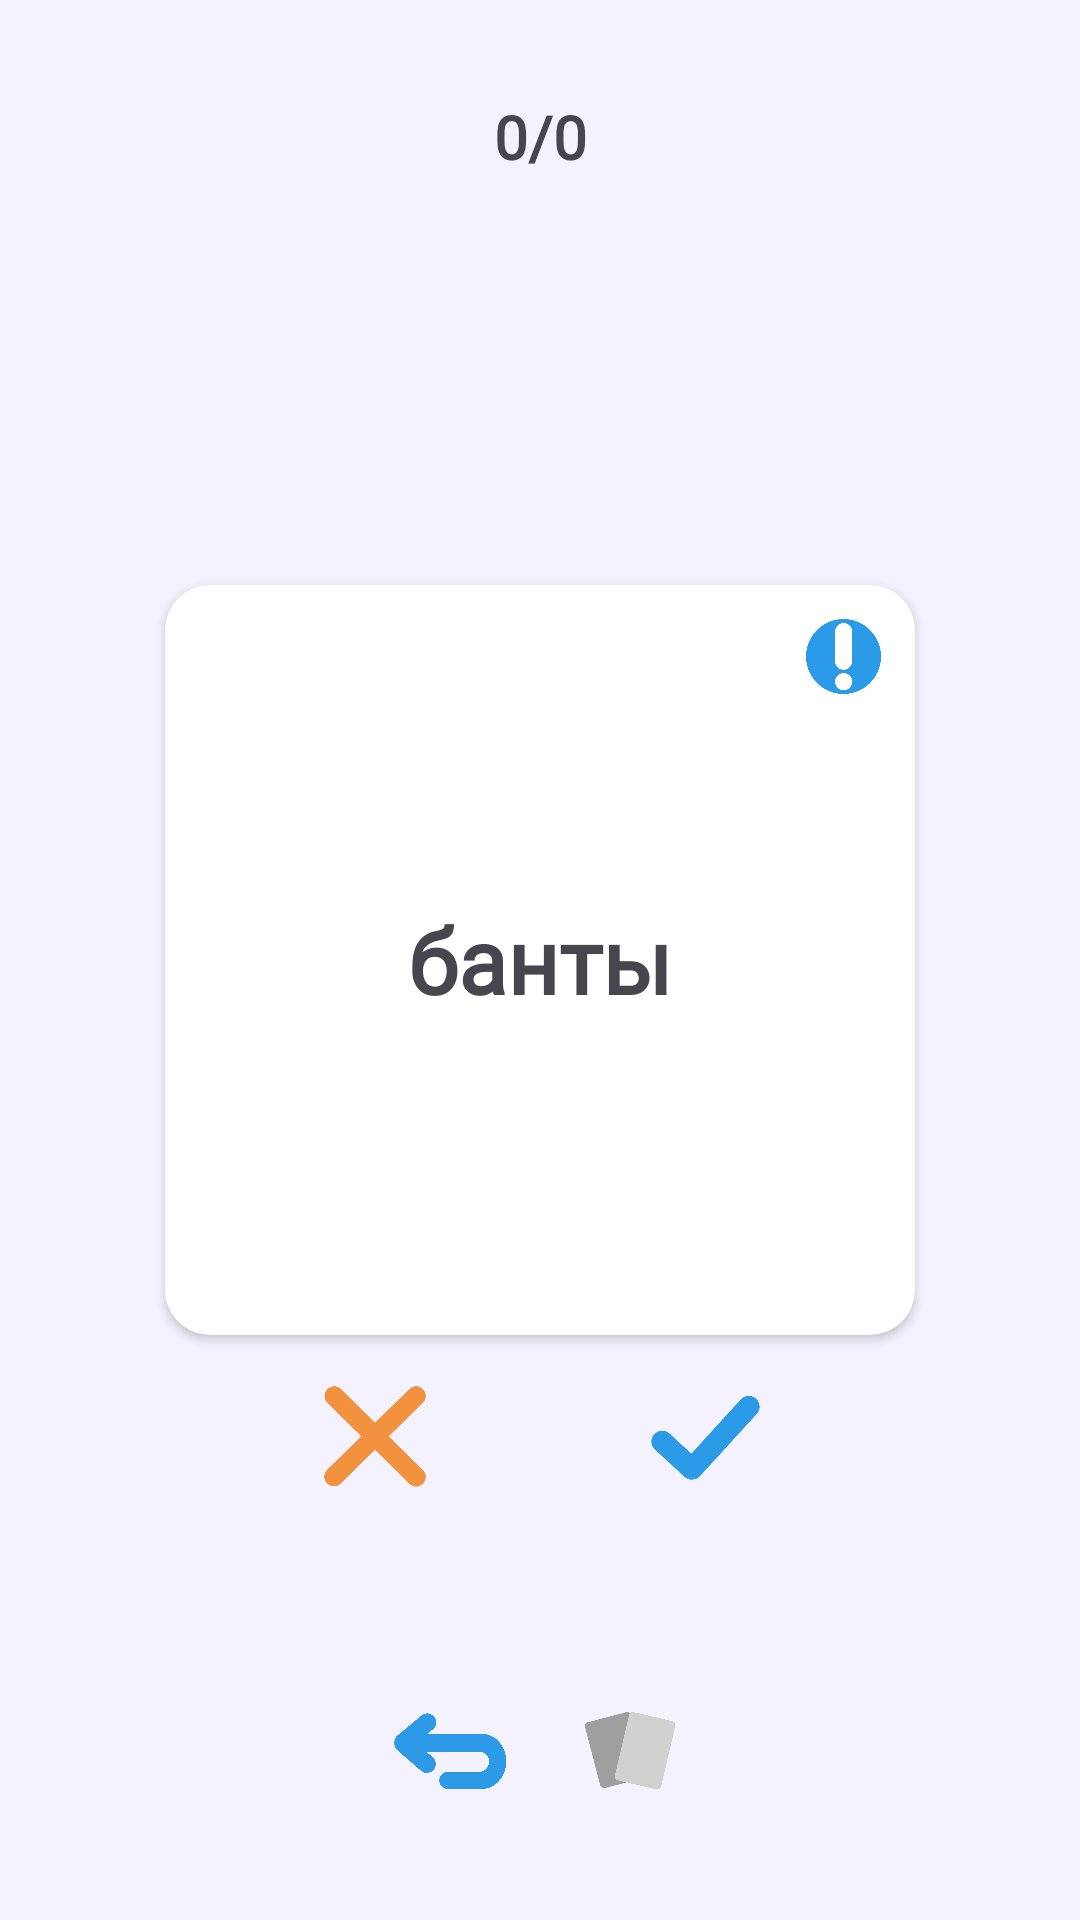

Screen size 1080px x 1920px. Icon name, then its box in pixels as (x1, y1, x2, y2):
dont know: (324, 1386, 426, 1487)
info: (806, 619, 881, 694)
know: (651, 1396, 760, 1480)
